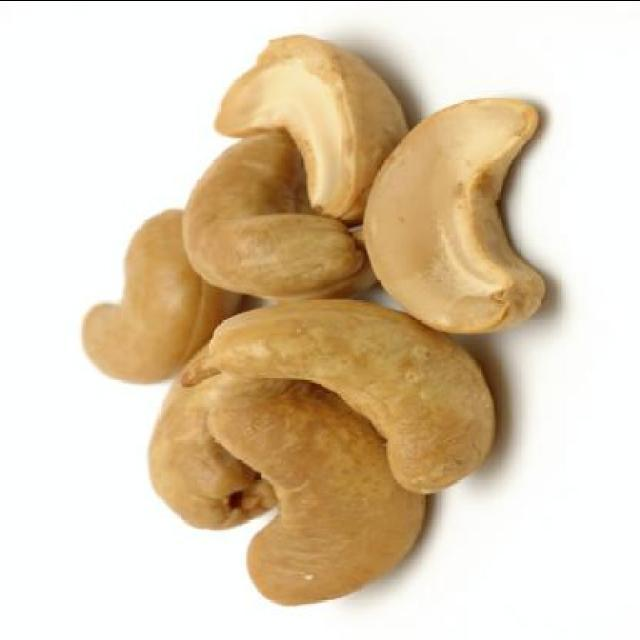Frutta secca: (74, 30, 554, 596)
